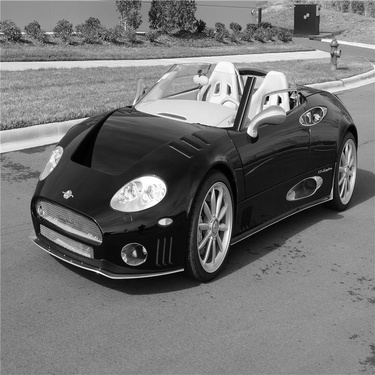car: (23, 52, 362, 294)
